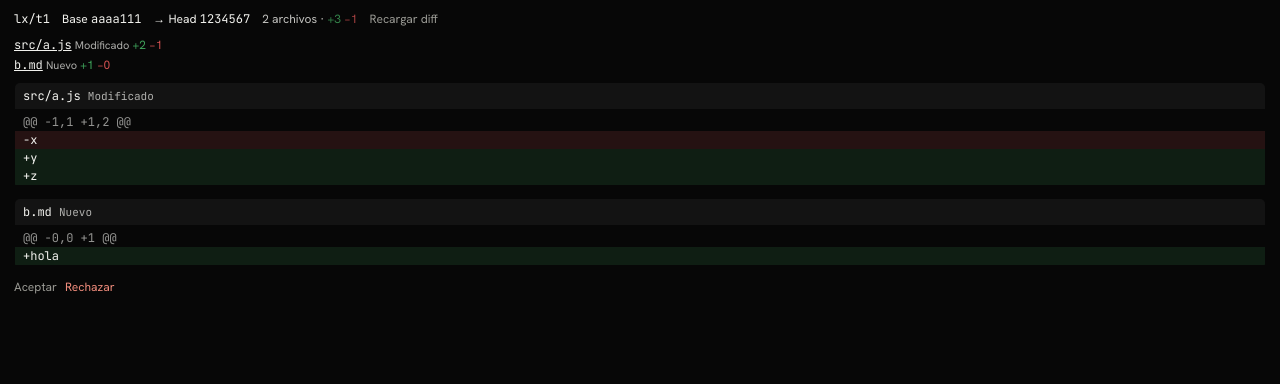
it: TaskDiffView › not_found y no_branch al decidir se muestran claros
This screenshot has width=1280, height=384.
Click the button "Aceptar" at (35, 287), box [14, 278, 57, 296]
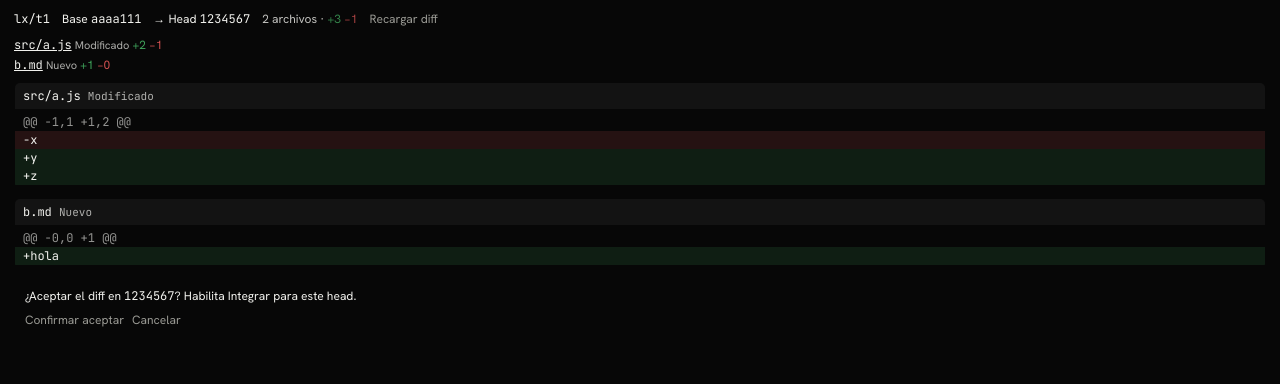
Click the button "Confirmar aceptar" at (75, 320), box [25, 311, 124, 329]
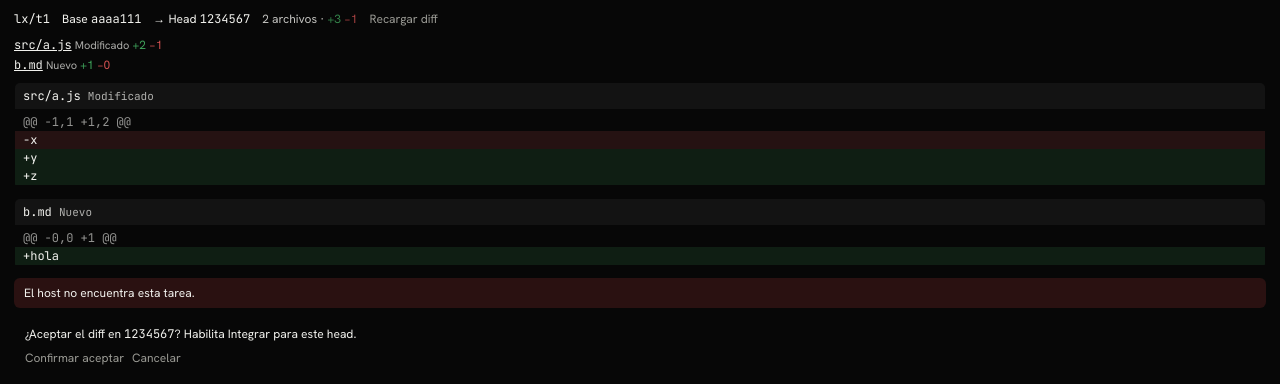
Result: the message shows "no encuentra" at [24, 285, 195, 301]
Click the button "Confirmar aceptar" at (75, 358), box [25, 349, 124, 367]
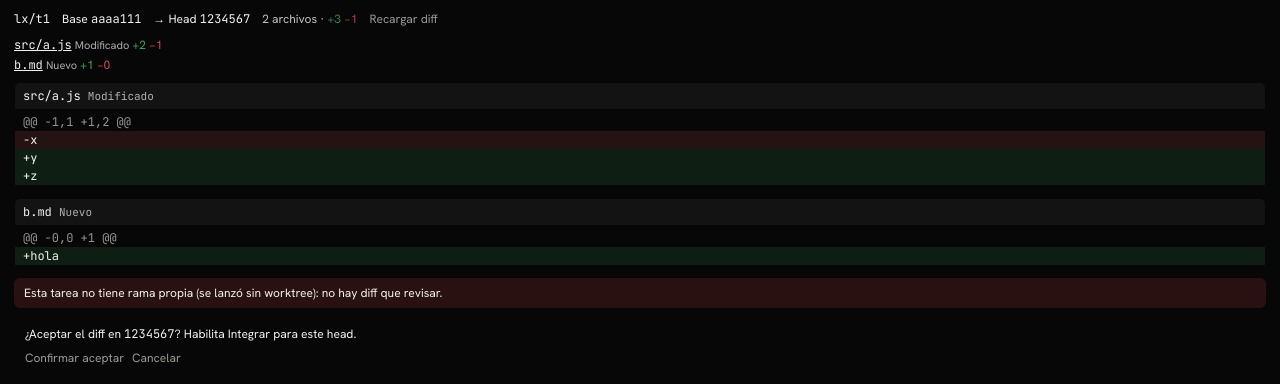
Result: the message shows "no tiene rama propia" at [24, 285, 442, 301]
